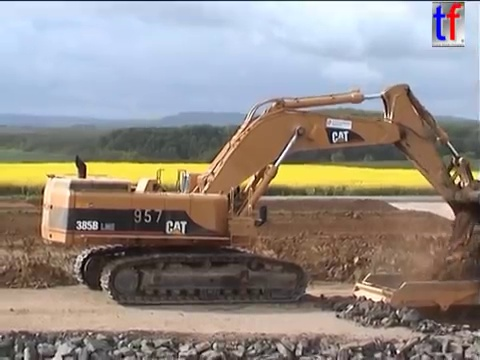excavator: (37, 80, 480, 309)
truck: (349, 269, 480, 360)
